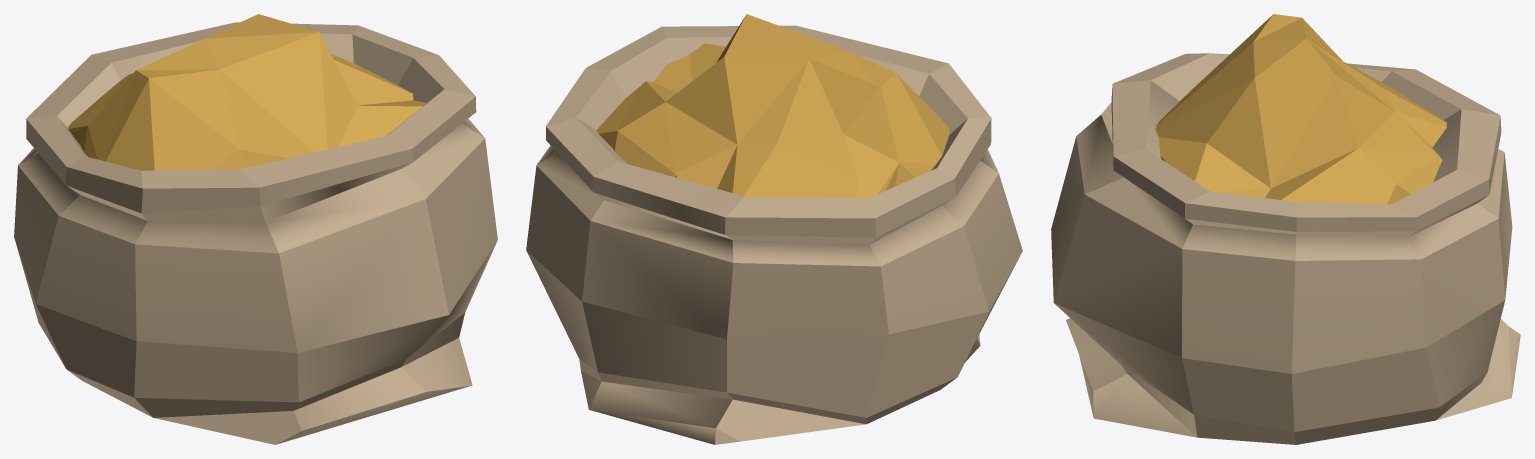
Rendered from SM_Prop_Sack_02.glb.
3 renders of one model, left to right at view 1: azimuth 30°, elevation 25°; view 2: azimuth 150°, elevation 25°; view 3: azimuth 270°, elevation 25°, orthographic.
Parts seen in each view (by area): view 1: SM_Prop_Sack_02; view 2: SM_Prop_Sack_02; view 3: SM_Prop_Sack_02.
Boxes of the visible parts, x1,y1,x2,y2 form: SM_Prop_Sack_02: (14,14,497,444); SM_Prop_Sack_02: (526,14,1022,444); SM_Prop_Sack_02: (1051,14,1520,444).
Bounding box in the file's own units: 0.6676 × 0.455 × 0.6312.
1 material, 1 textured.
